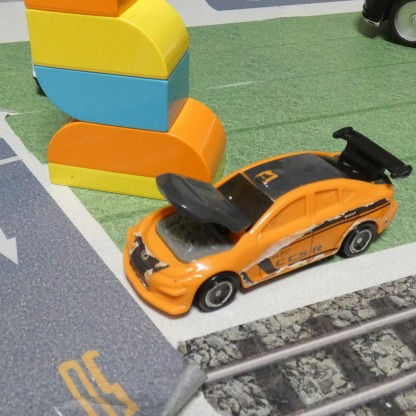car: (121, 137, 396, 324)
